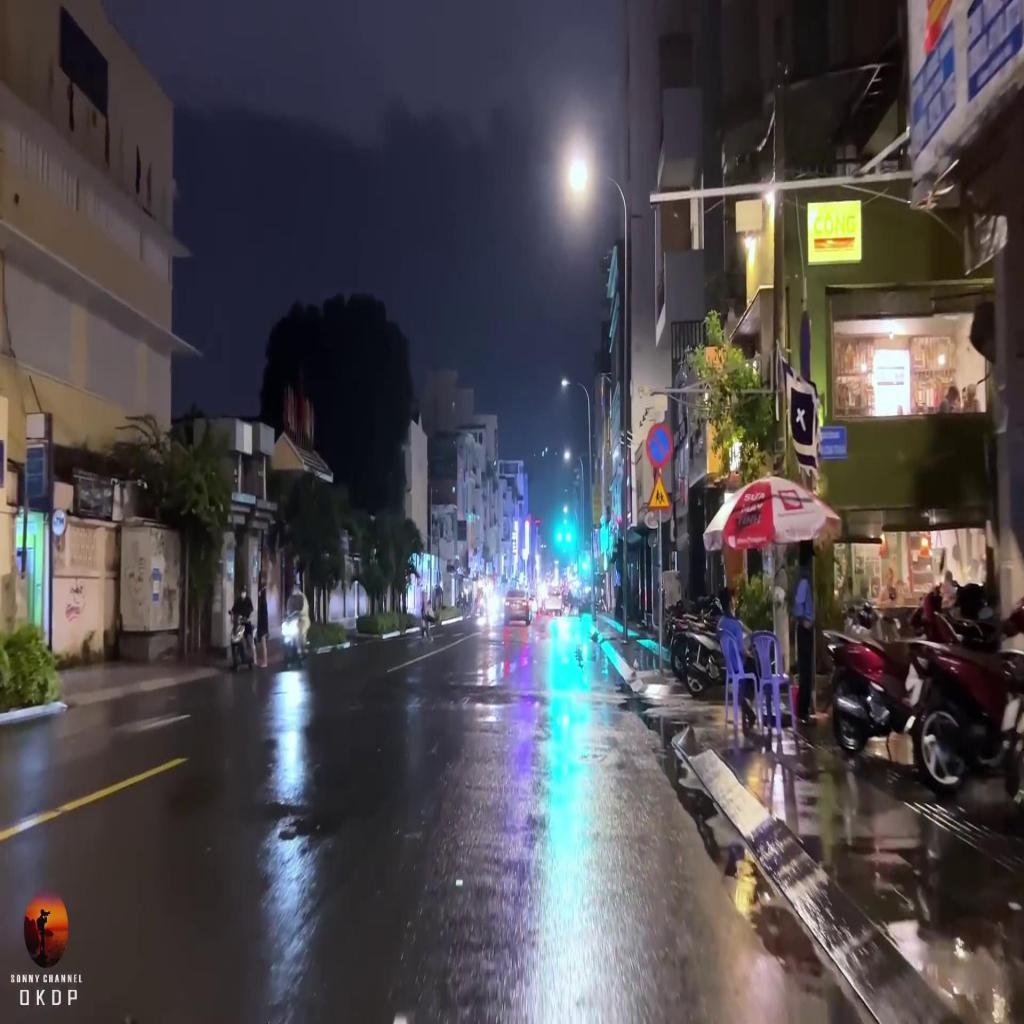cam_do_xe: (646, 424, 672, 469)
chu_y_tre_em: (646, 471, 671, 510)
